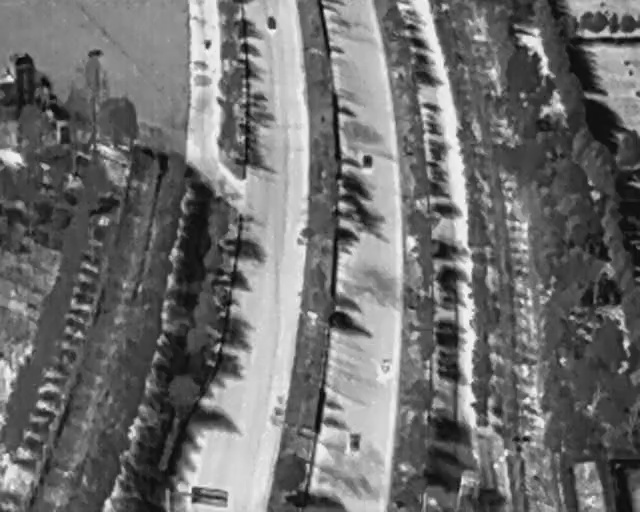Car: (350, 433, 360, 453), (267, 14, 275, 28), (363, 155, 371, 168)
